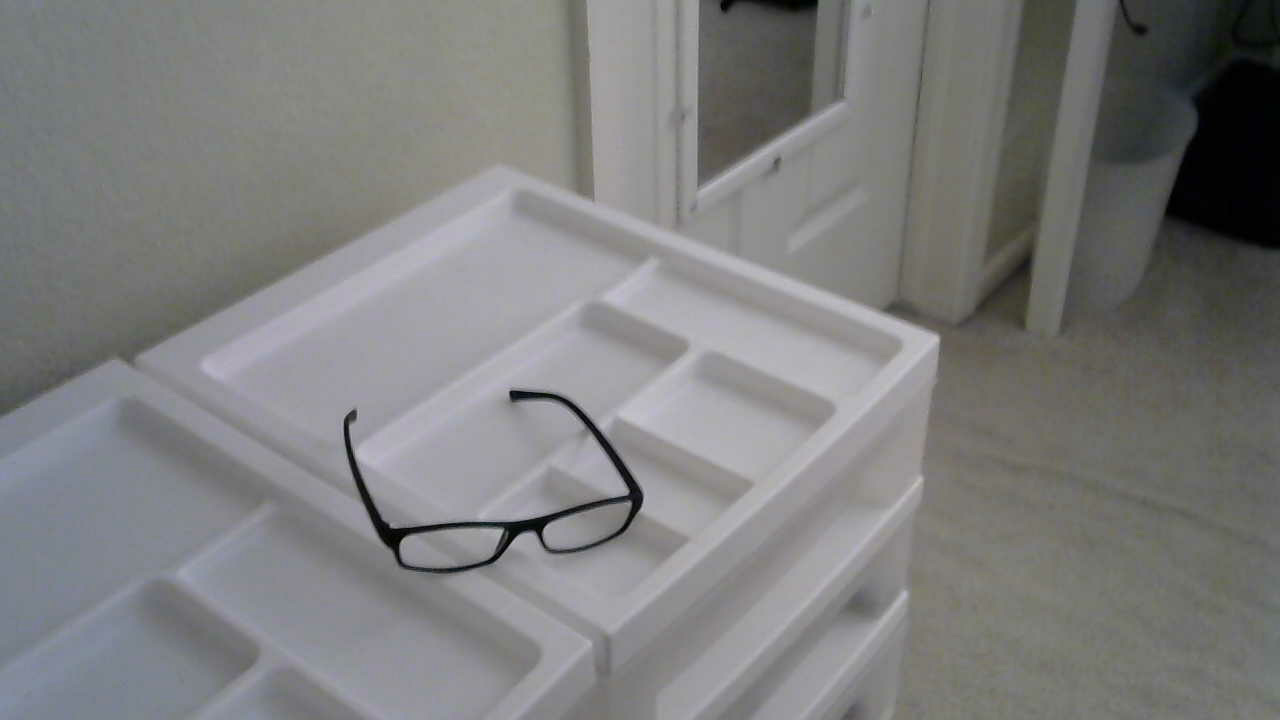Glasses: (331, 375, 659, 569)
